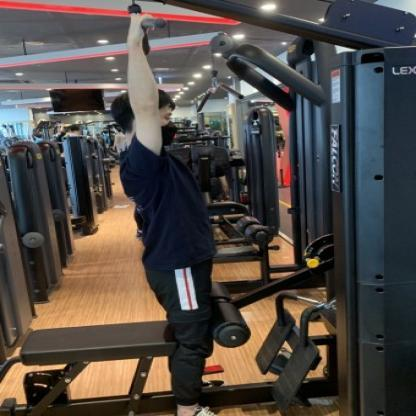Lat Pull Down: (2, 0, 416, 416)
